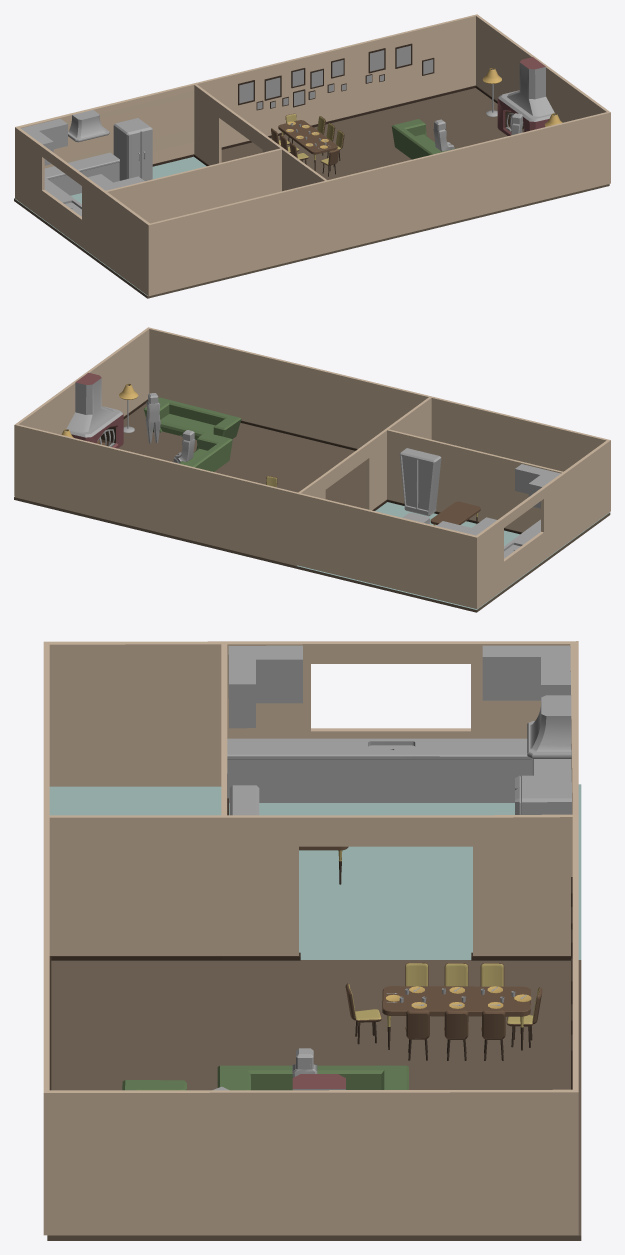
The model's file is CompleteTestRoom_70s.fbx.
The picture shows the model from 3 angles, top to bottom: view 1: azimuth 30°, elevation 25°; view 2: azimuth 150°, elevation 25°; view 3: azimuth 270°, elevation 25°; orthographic projection. The views are drawn at different scales.
Visible parts, largest first — view 1: group5_pCylinder7; view 2: group5_pCylinder7; view 3: group5_pCylinder7.
Part boxes in pixels (x1,y1,x2,y2): group5_pCylinder7: (14,14,610,298); group5_pCylinder7: (14,327,610,612); group5_pCylinder7: (43,641,581,1240).
Size of the model in its own units: 180 by 27.85 by 90.63.
